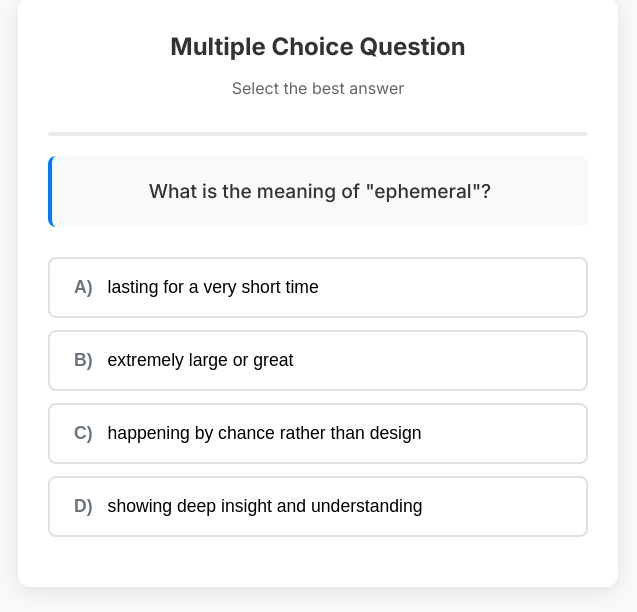
MultipleChoice › disables options after answer selection
The image size is (637, 612).
What coordinates should you click on to do the following:
click the button "A) lasting for a very short time"
I would click on:
 (318, 287)
Its box is [48,257,588,318].
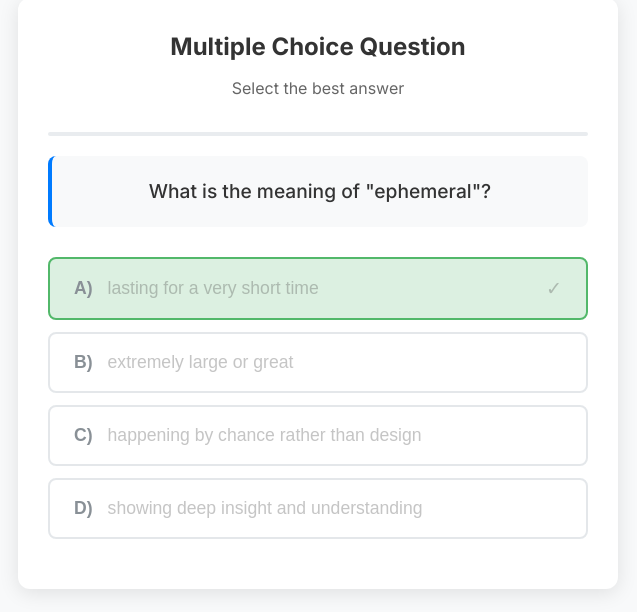
Now the button "A) lasting for a very short time ✓" is disabled, box [48,257,588,320]
Now the button "B) extremely large or great" is disabled, box [48,332,588,393]
Now the button "happening by chance rather than design" is disabled, box [48,405,588,466]
